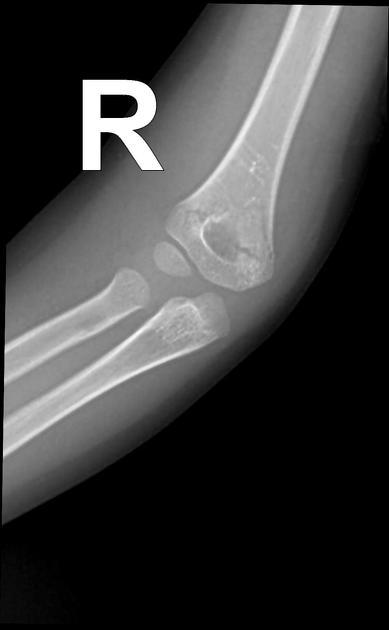fractured: (182, 200, 274, 270)
